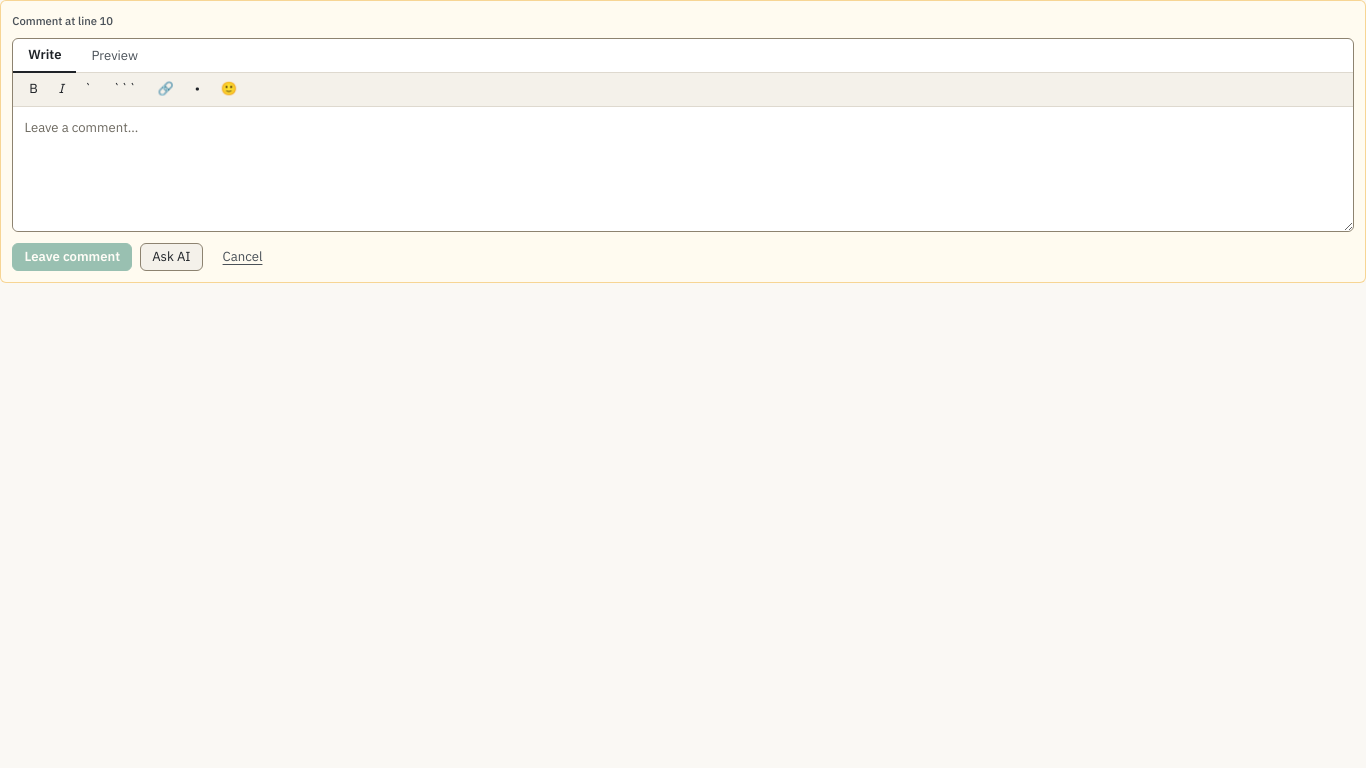
DraftThread — action row (Leave comment / Ask AI / Cancel buttons) › asking does not touch the comment composer
The image size is (1366, 768).
Type "My unfinished note" into the text box named "comment body". click: (683, 169)
box: [13,106,1353,231]
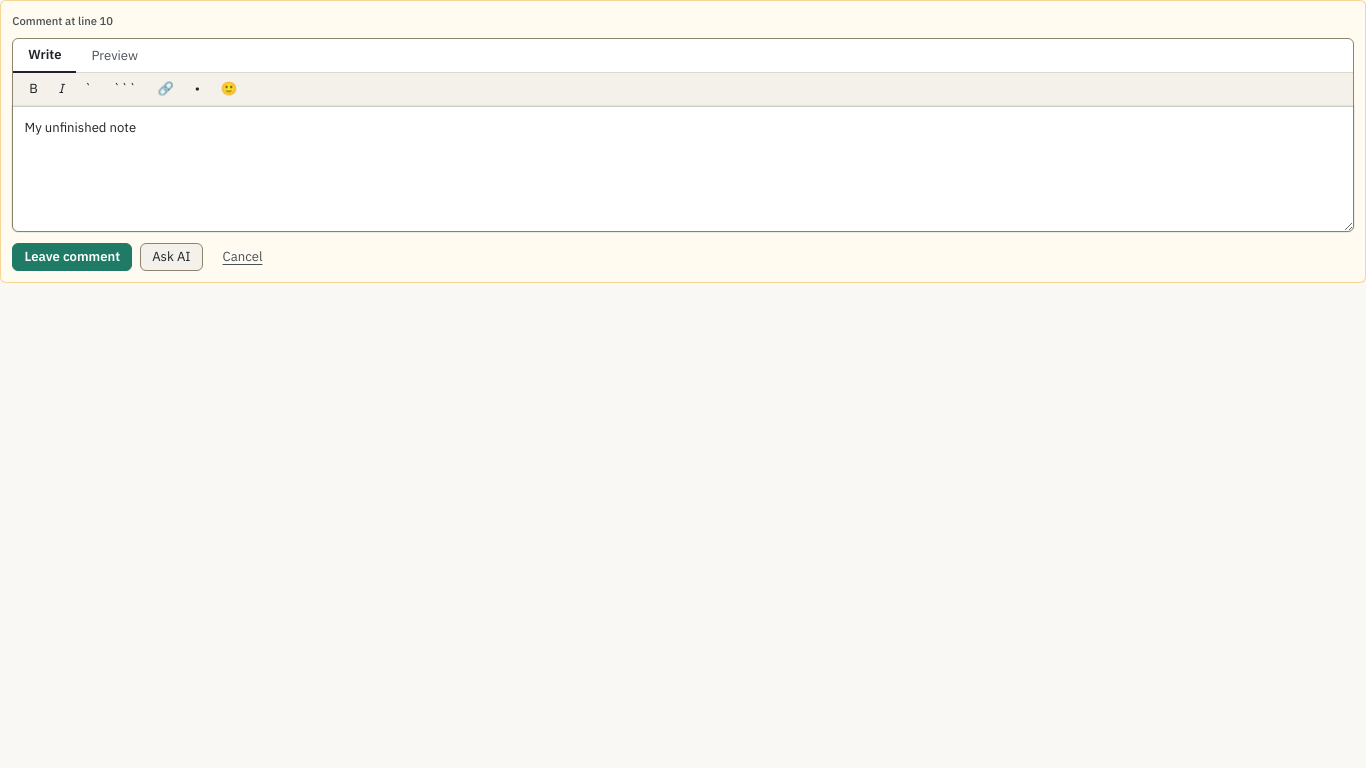
Click the button "Ask AI". click: (171, 257)
box: [140,243,203,271]
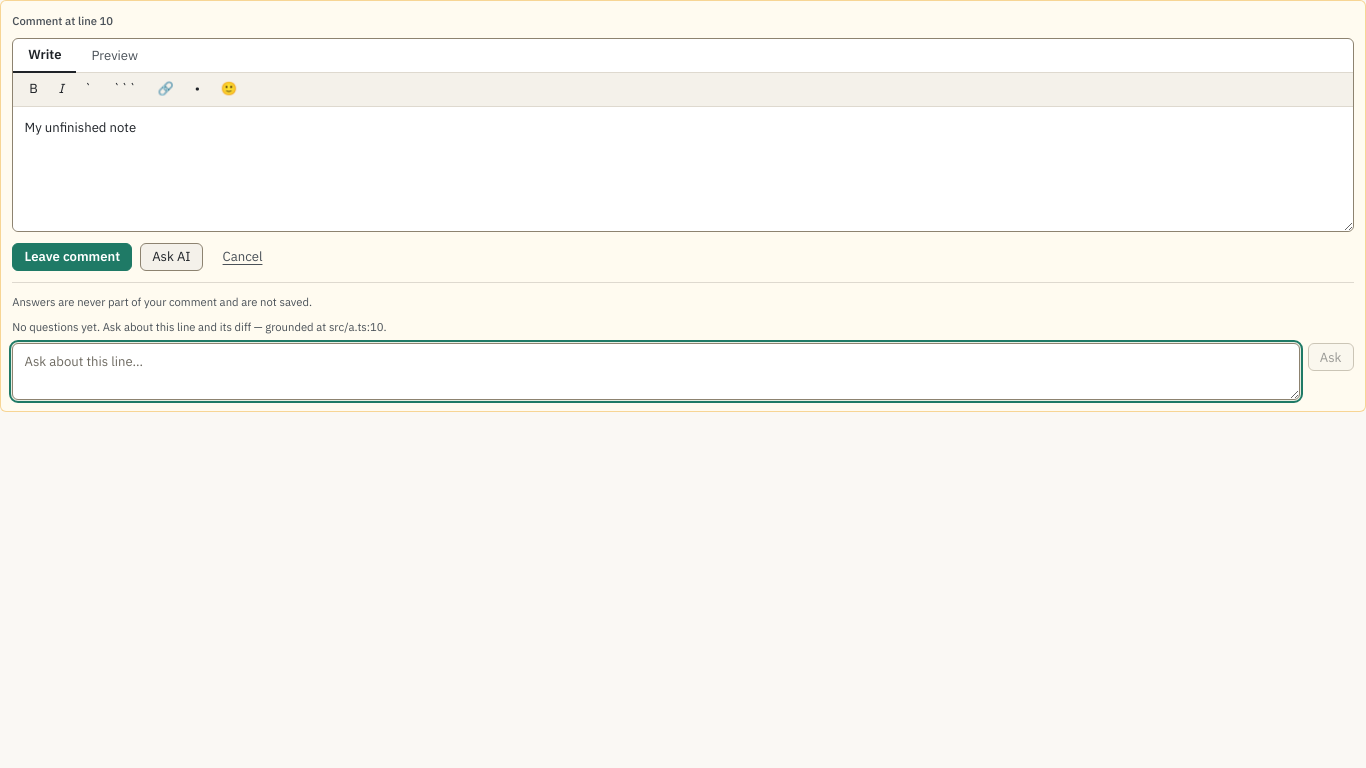
Type "Why is this here?" into the text box with test id "ask-question-input". click: (656, 371)
box: [12,343,1300,400]
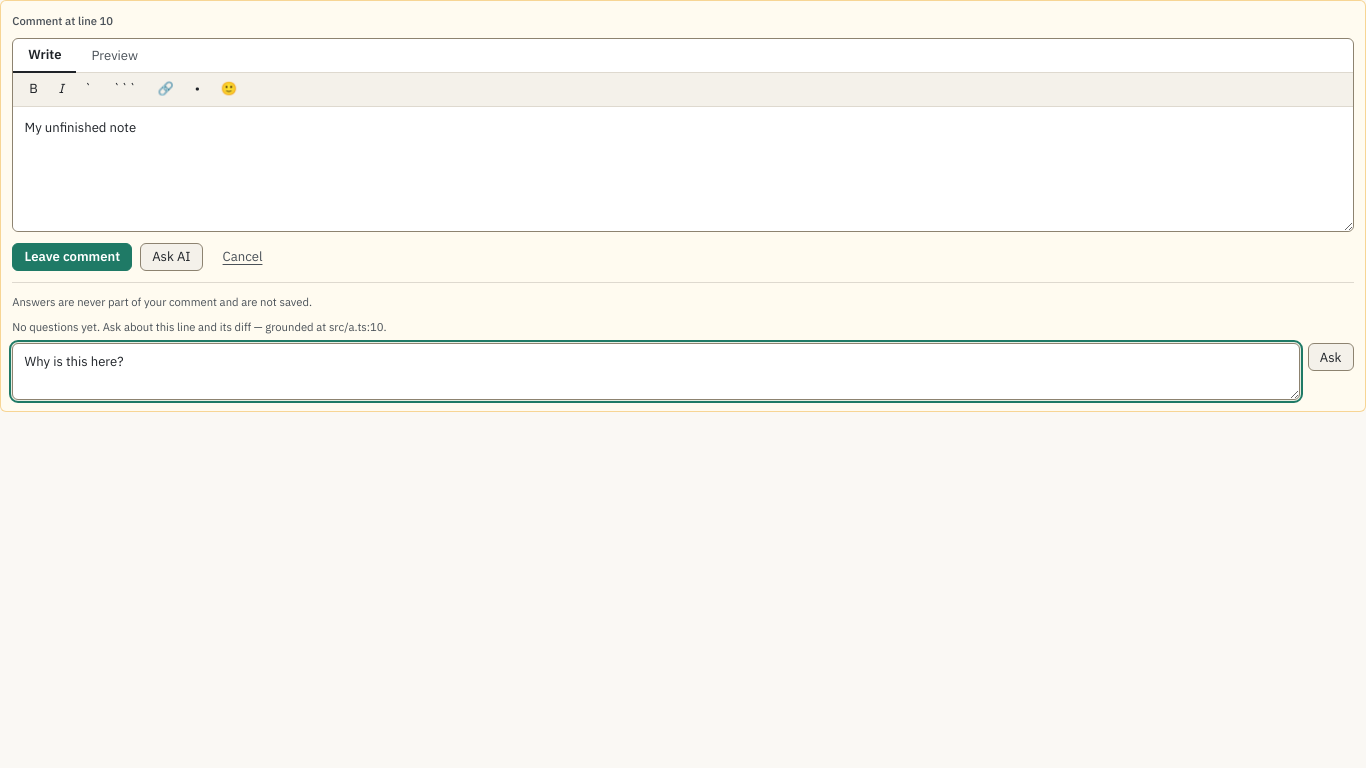
Click the button with test id "ask-send". click: (1331, 357)
box: [1308,343,1354,371]
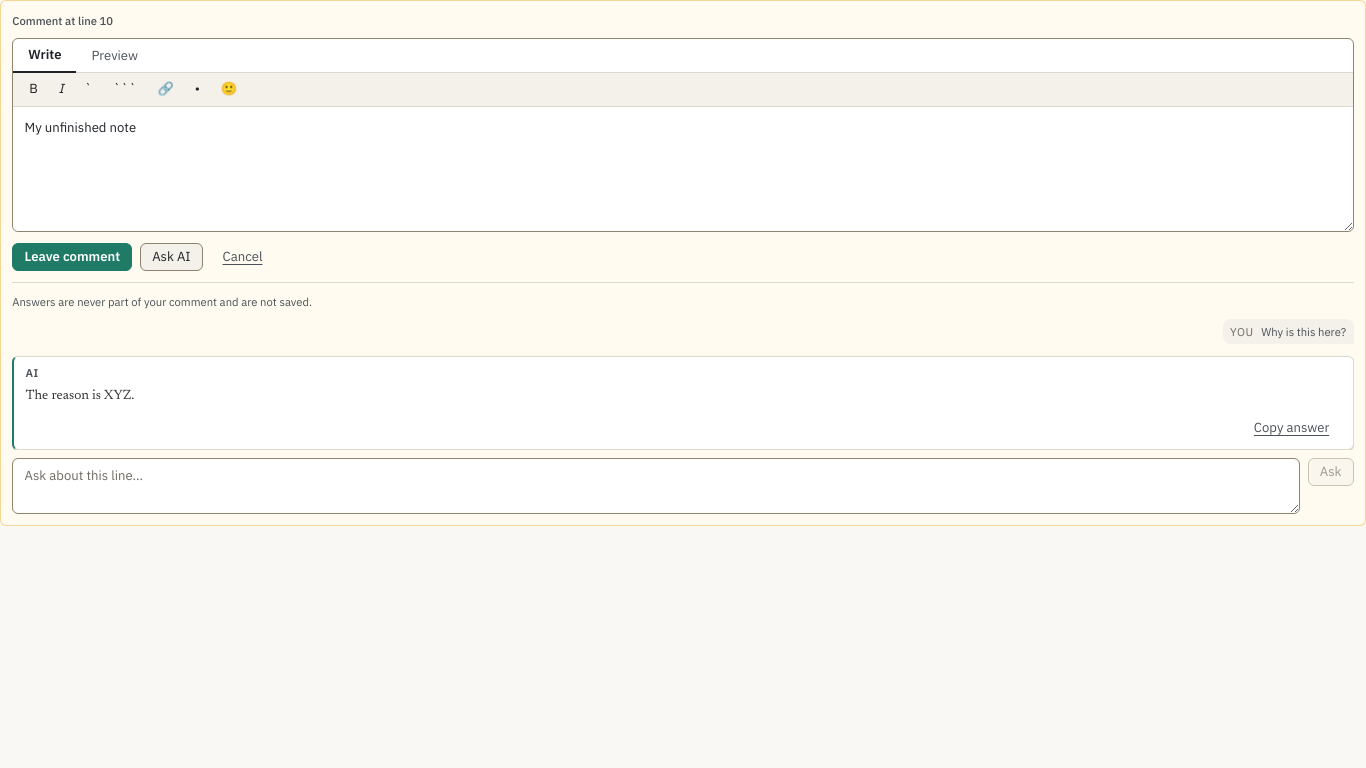
Check: the element with test id "ask-answer" showing "The reason is XYZ." is shown, box [26,389,134,403]
